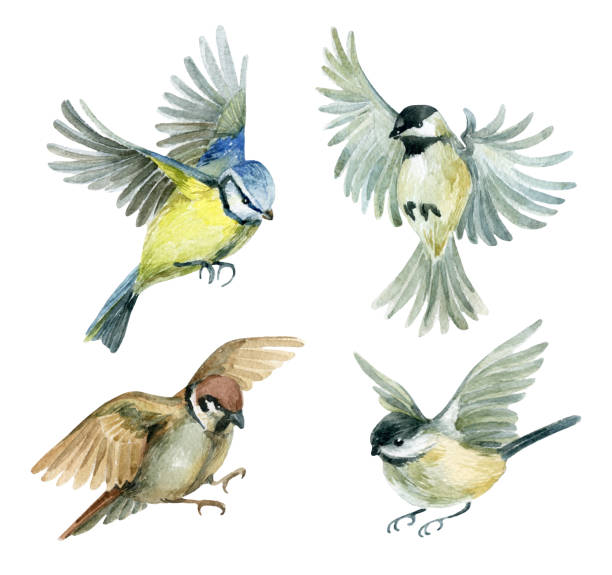Bird: (314, 20, 577, 344), (38, 19, 275, 357), (27, 332, 307, 543), (349, 318, 585, 541)
